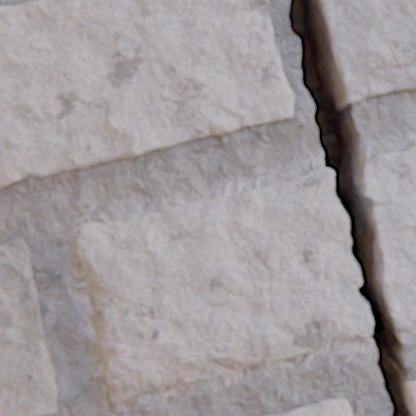brick: (0, 0, 294, 187), (0, 239, 59, 415), (320, 0, 415, 102), (261, 397, 352, 415), (407, 379, 415, 415)
broken_brick: (74, 168, 372, 401), (362, 146, 415, 327)
crack: (285, 0, 414, 415), (323, 331, 339, 342)
